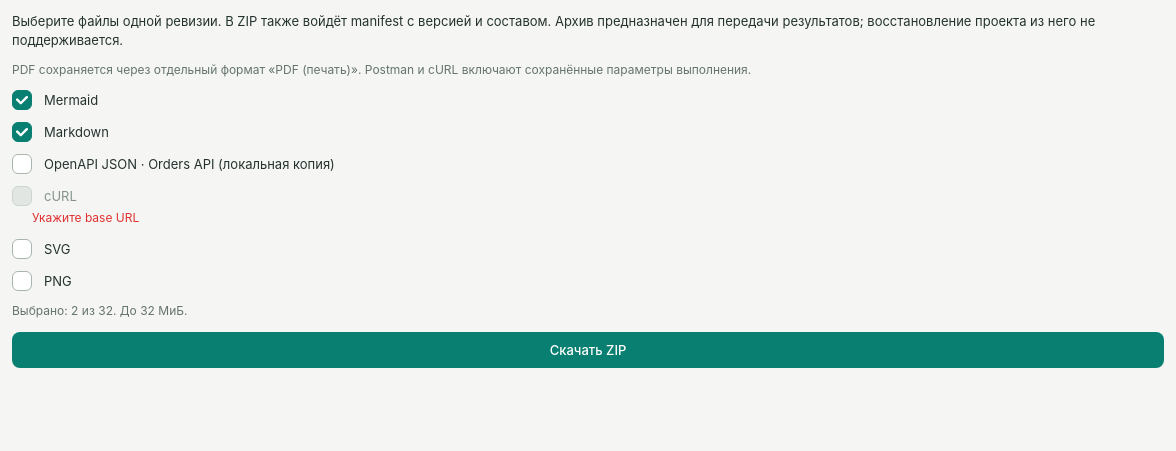
Test: disables an empty selection and displays build errors without partial download
The width and height of the screenshot is (1176, 451).
Click the checkbox labelled "Mermaid": (22, 100) [12, 90, 32, 110]
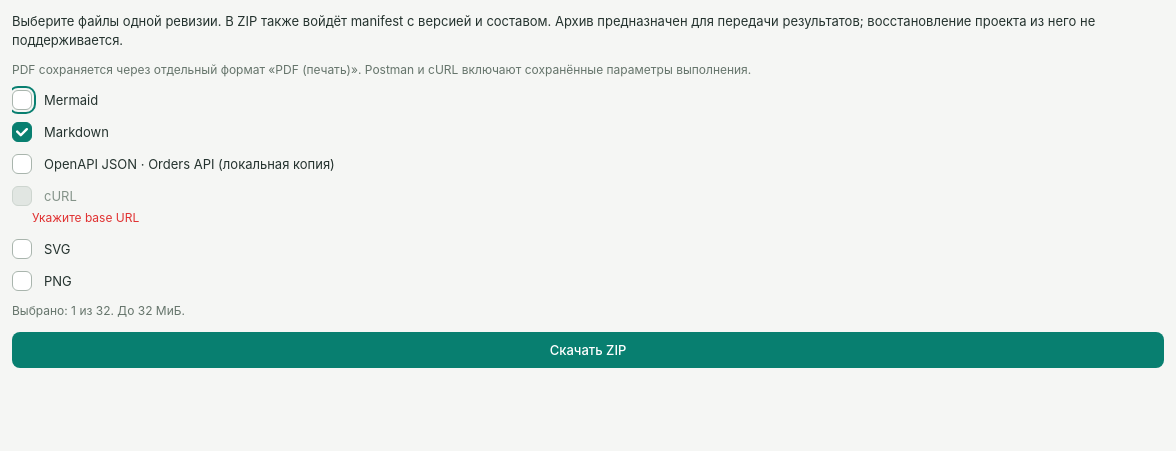
Click the checkbox labelled "Markdown": (22, 132) [12, 122, 32, 142]
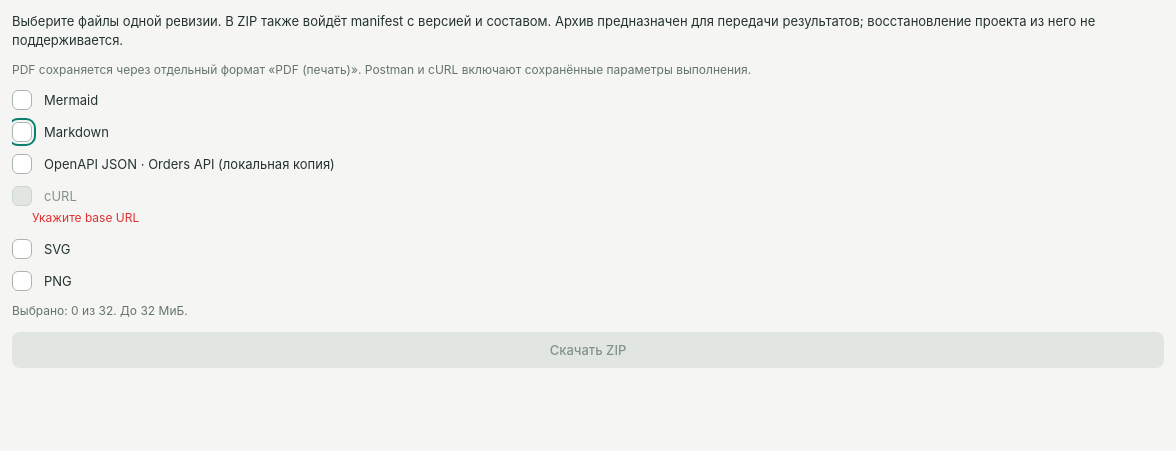
Now the button "Скачать ZIP" is disabled, box [12, 332, 1164, 368]
Click the checkbox labelled "SVG": (22, 249) [12, 239, 32, 259]
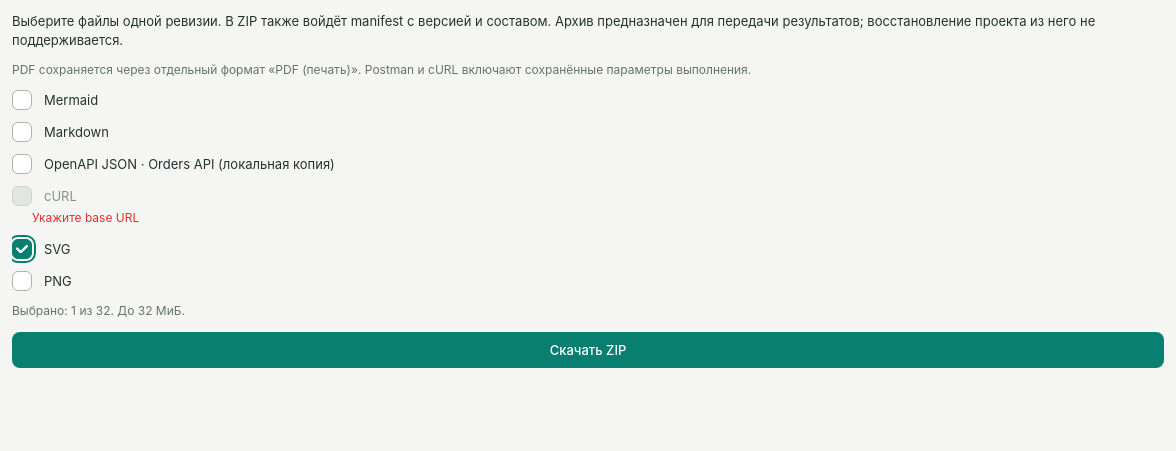
Click the button "Скачать ZIP": (588, 350) [12, 332, 1164, 368]
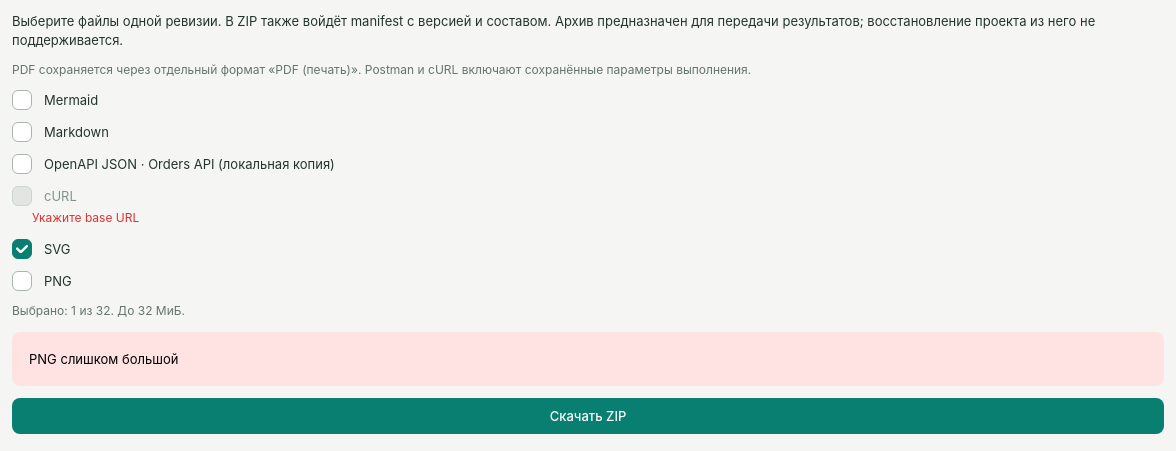
Now the message reads "PNG слишком большой", box [29, 351, 178, 367]
